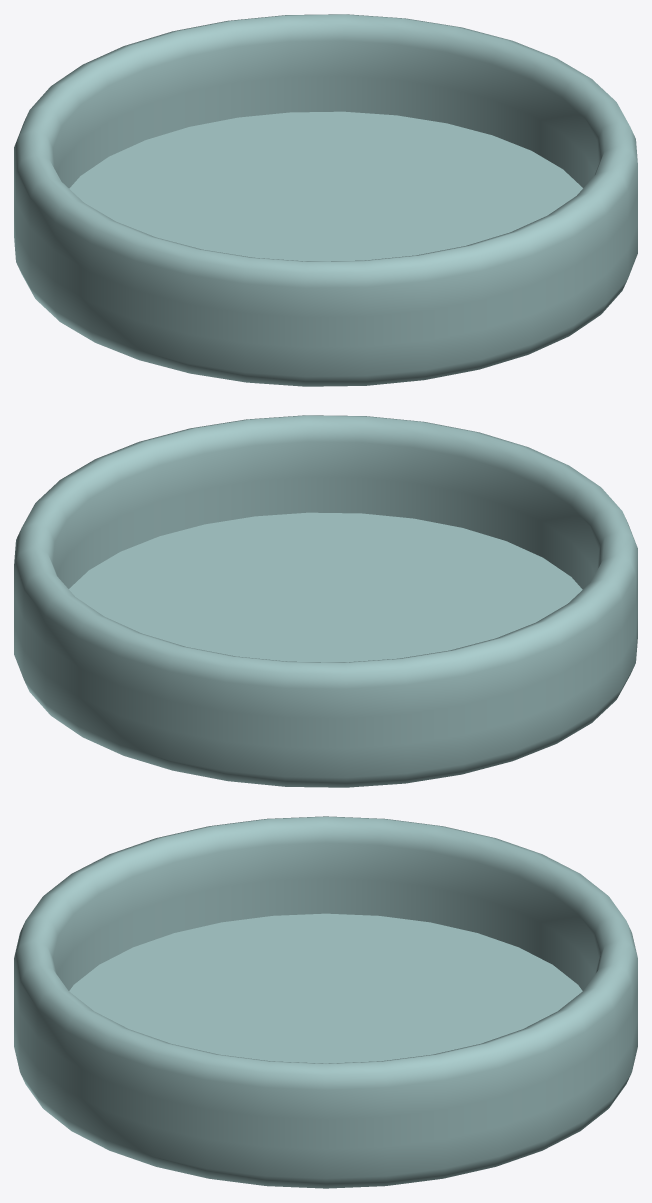
The model's file is LastLuna_Model_Station_Petri.fbx.
The picture shows the model from 3 angles, top to bottom: view 1: azimuth 30°, elevation 25°; view 2: azimuth 150°, elevation 25°; view 3: azimuth 270°, elevation 25°; orthographic projection.
Visible parts, largest first — view 1: Petri_Dish; view 2: Petri_Dish; view 3: Petri_Dish.
Boxes of the visible parts, x1,y1,x2,y2 form: Petri_Dish: (14,14,637,386); Petri_Dish: (14,415,637,787); Petri_Dish: (14,816,637,1188).
Size of the model in its own units: 80 by 17.5 by 80.
